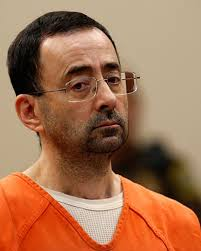Glasses: (45, 67, 149, 104)
